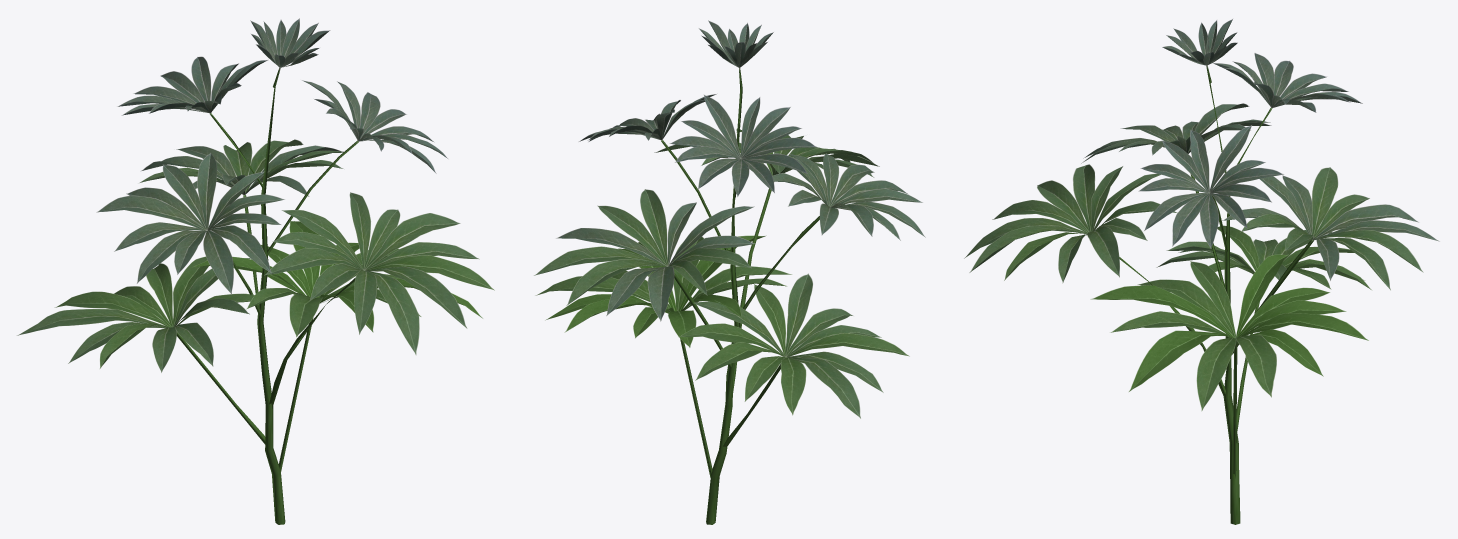
Rendered from lupine.glb.
3 renders of one model, left to right at view 1: azimuth 30°, elevation 25°; view 2: azimuth 150°, elevation 25°; view 3: azimuth 270°, elevation 25°, orthographic. The views are drawn at different scales.
Parts seen in each view (by area): view 1: Lupinus_polyphyllus_HD_Lupinus leaflet 03_0, Lupinus_polyphyllus_HD_Lupinus leaflet 04_0, Lupinus_polyphyllus_HD_Lupinus leaflet 05_0, Lupinus_polyphyllus_HD_Lupinus leaflet 02_0, Lupinus_polyphyllus_HD_Lupinus leaflet 01_0, Lupinus_polyphyllus_HD_Lupinus stalk 01_0, Lupinus_polyphyllus_HD_Lupinus leaf stalk 01_0, Lupinus_polyphyllus_HD_Lupinus leaf stalk 02_0; view 2: Lupinus_polyphyllus_HD_Lupinus leaflet 03_0, Lupinus_polyphyllus_HD_Lupinus leaflet 04_0, Lupinus_polyphyllus_HD_Lupinus leaflet 05_0, Lupinus_polyphyllus_HD_Lupinus leaflet 02_0, Lupinus_polyphyllus_HD_Lupinus leaflet 01_0, Lupinus_polyphyllus_HD_Lupinus stalk 01_0, Lupinus_polyphyllus_HD_Lupinus leaf stalk 01_0, Lupinus_polyphyllus_HD_Lupinus leaf stalk 02_0; view 3: Lupinus_polyphyllus_HD_Lupinus leaflet 03_0, Lupinus_polyphyllus_HD_Lupinus leaflet 05_0, Lupinus_polyphyllus_HD_Lupinus leaflet 02_0, Lupinus_polyphyllus_HD_Lupinus leaflet 01_0, Lupinus_polyphyllus_HD_Lupinus leaflet 04_0, Lupinus_polyphyllus_HD_Lupinus stalk 01_0, Lupinus_polyphyllus_HD_Lupinus leaf stalk 01_0.
Boxes of the visible parts, <box> form: Lupinus_polyphyllus_HD_Lupinus leaflet 03_0: <box>17,139,479,372</box>; Lupinus_polyphyllus_HD_Lupinus leaflet 04_0: <box>96,145,343,294</box>; Lupinus_polyphyllus_HD_Lupinus leaflet 05_0: <box>117,18,448,173</box>; Lupinus_polyphyllus_HD_Lupinus leaflet 02_0: <box>54,248,494,368</box>; Lupinus_polyphyllus_HD_Lupinus leaflet 01_0: <box>192,221,482,332</box>; Lupinus_polyphyllus_HD_Lupinus stalk 01_0: <box>257,87,285,524</box>; Lupinus_polyphyllus_HD_Lupinus leaf stalk 01_0: <box>177,113,358,472</box>; Lupinus_polyphyllus_HD_Lupinus leaf stalk 02_0: <box>269,270,364,408</box>; Lupinus_polyphyllus_HD_Lupinus leaflet 03_0: <box>534,135,883,418</box>; Lupinus_polyphyllus_HD_Lupinus leaflet 04_0: <box>556,152,925,321</box>; Lupinus_polyphyllus_HD_Lupinus leaflet 05_0: <box>579,20,816,196</box>; Lupinus_polyphyllus_HD_Lupinus leaflet 02_0: <box>535,128,909,415</box>; Lupinus_polyphyllus_HD_Lupinus leaflet 01_0: <box>545,235,766,347</box>; Lupinus_polyphyllus_HD_Lupinus stalk 01_0: <box>706,89,742,524</box>; Lupinus_polyphyllus_HD_Lupinus leaf stalk 01_0: <box>661,140,786,478</box>; Lupinus_polyphyllus_HD_Lupinus leaf stalk 02_0: <box>733,188,771,392</box>; Lupinus_polyphyllus_HD_Lupinus leaflet 03_0: <box>964,164,1423,290</box>; Lupinus_polyphyllus_HD_Lupinus leaflet 05_0: <box>1138,19,1362,248</box>; Lupinus_polyphyllus_HD_Lupinus leaflet 02_0: <box>1004,225,1371,411</box>; Lupinus_polyphyllus_HD_Lupinus leaflet 01_0: <box>1090,254,1368,391</box>; Lupinus_polyphyllus_HD_Lupinus leaflet 04_0: <box>1081,103,1439,280</box>; Lupinus_polyphyllus_HD_Lupinus stalk 01_0: <box>1209,83,1240,524</box>; Lupinus_polyphyllus_HD_Lupinus leaf stalk 01_0: <box>1209,107,1313,478</box>.
Size of the model in its own units: 0.4189 by 0.5239 by 0.4658.
Materials: 10 (10 with a texture image).
